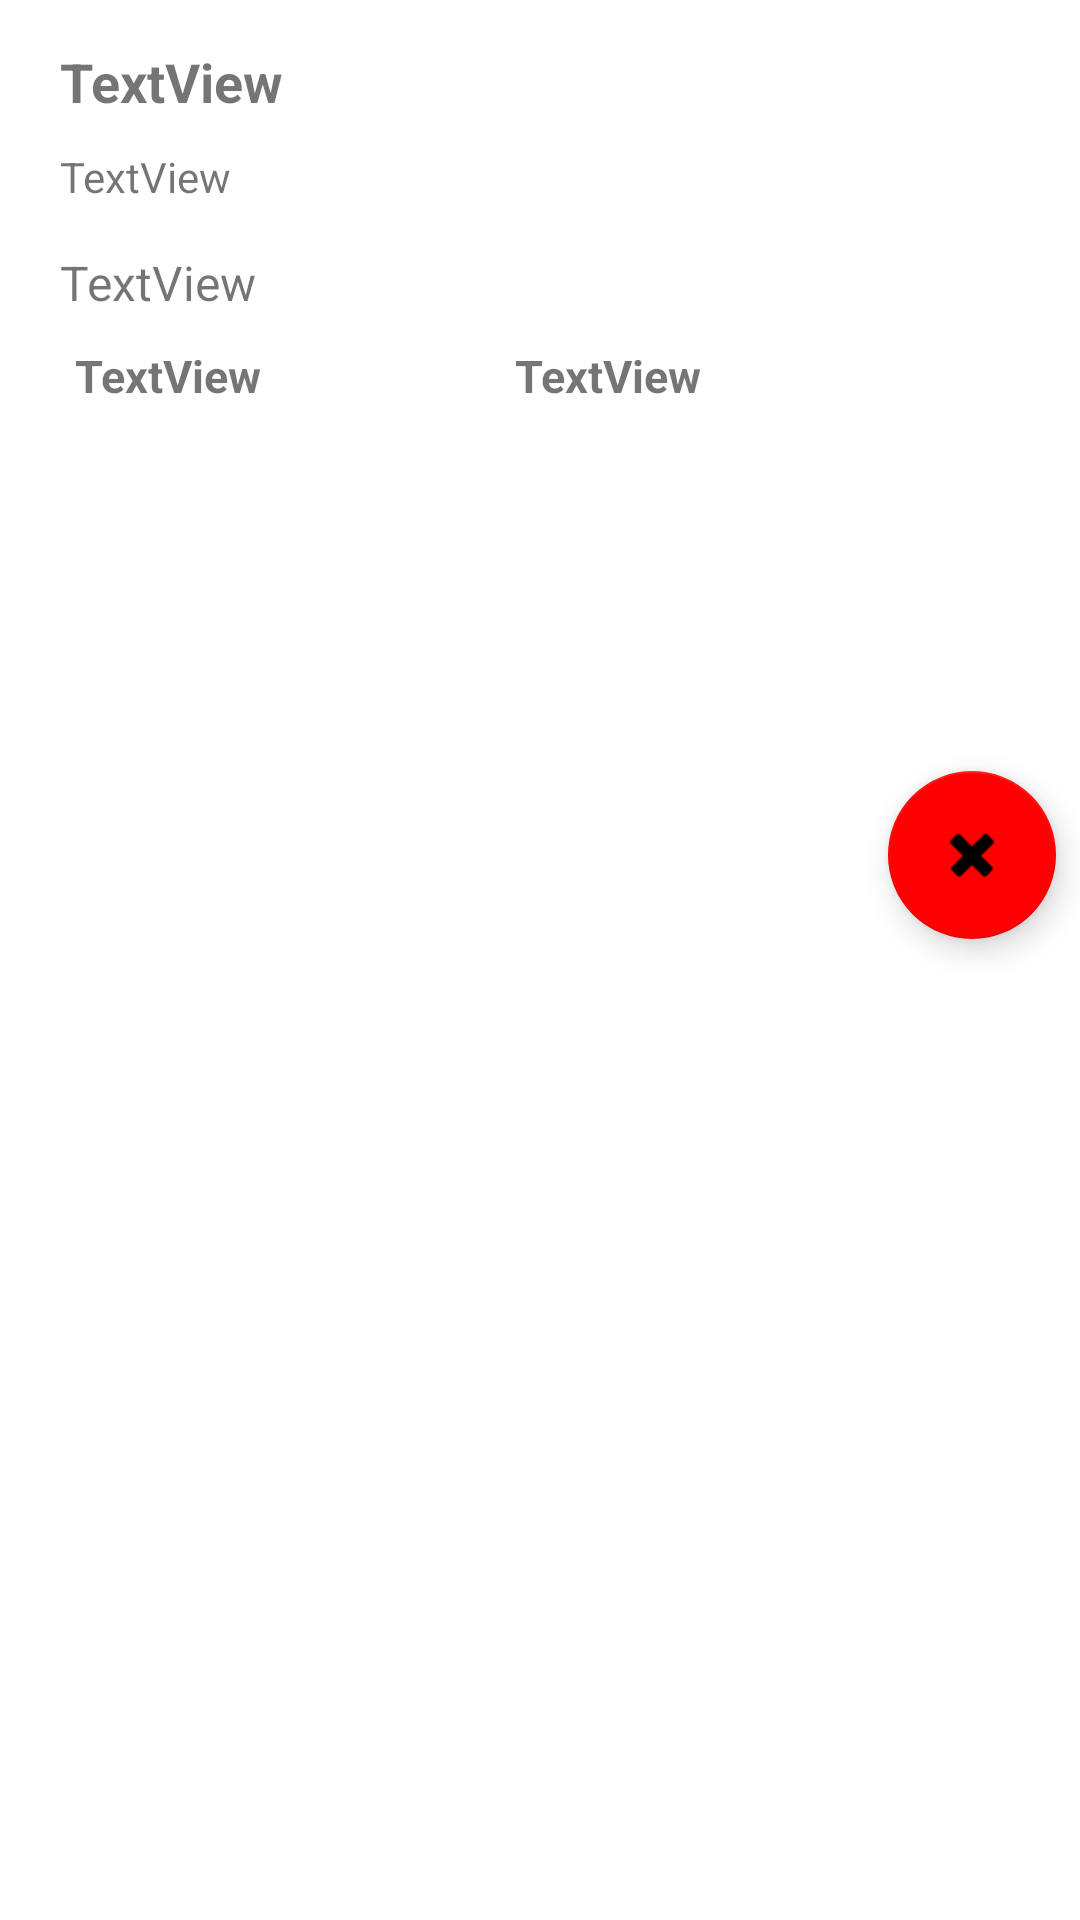

Screen size 1080*1920. Icon name, then its center in pixels as (x,y):
delete: (972,855)
